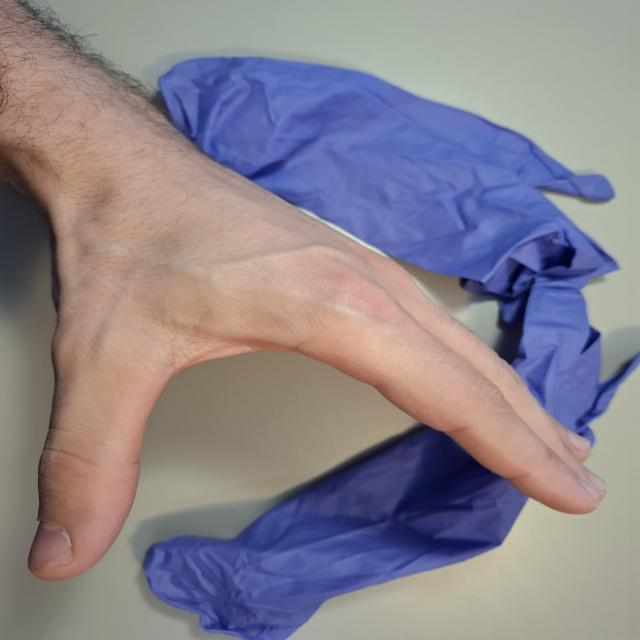glove_off: (19, 138, 612, 584)
